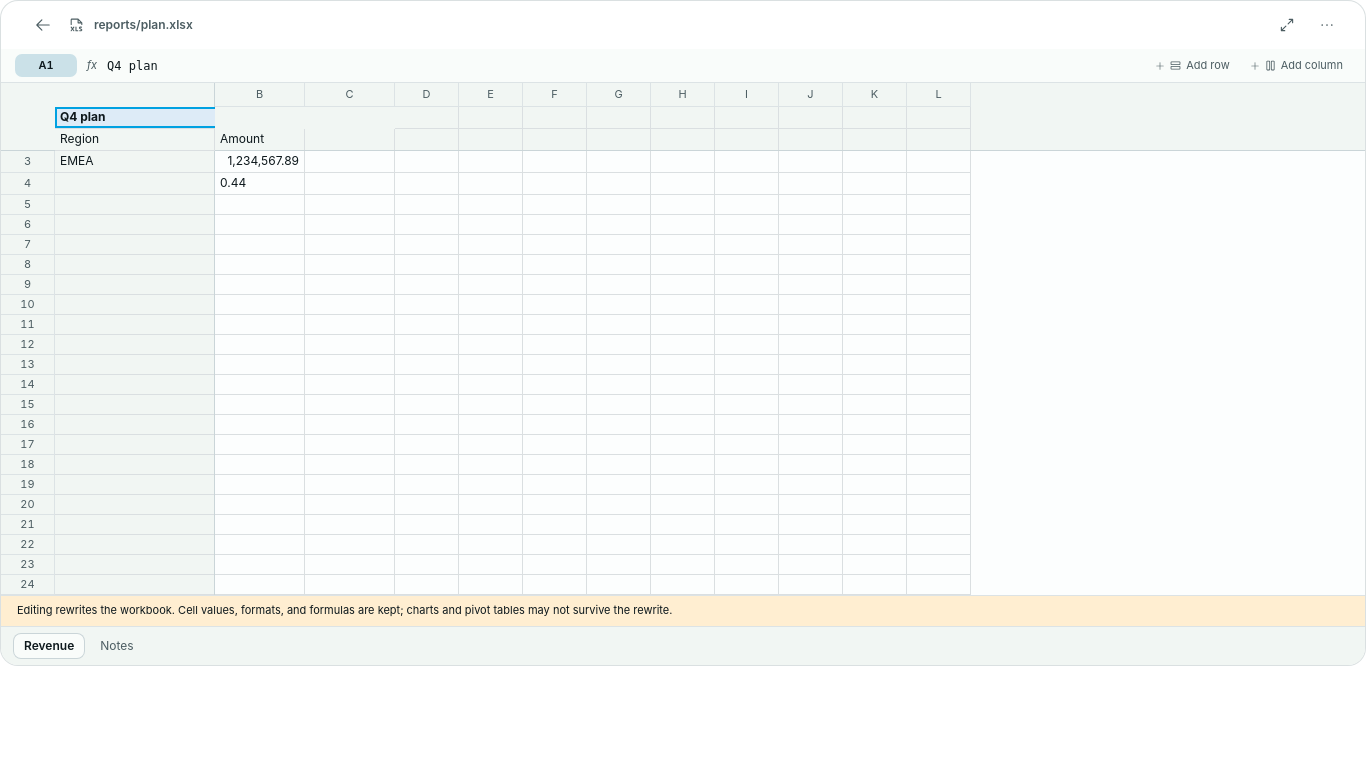
Test: workbook preview › switches sheets from the tab bar
Click the tab "Notes" at [117, 646], box [89,633,145,659]
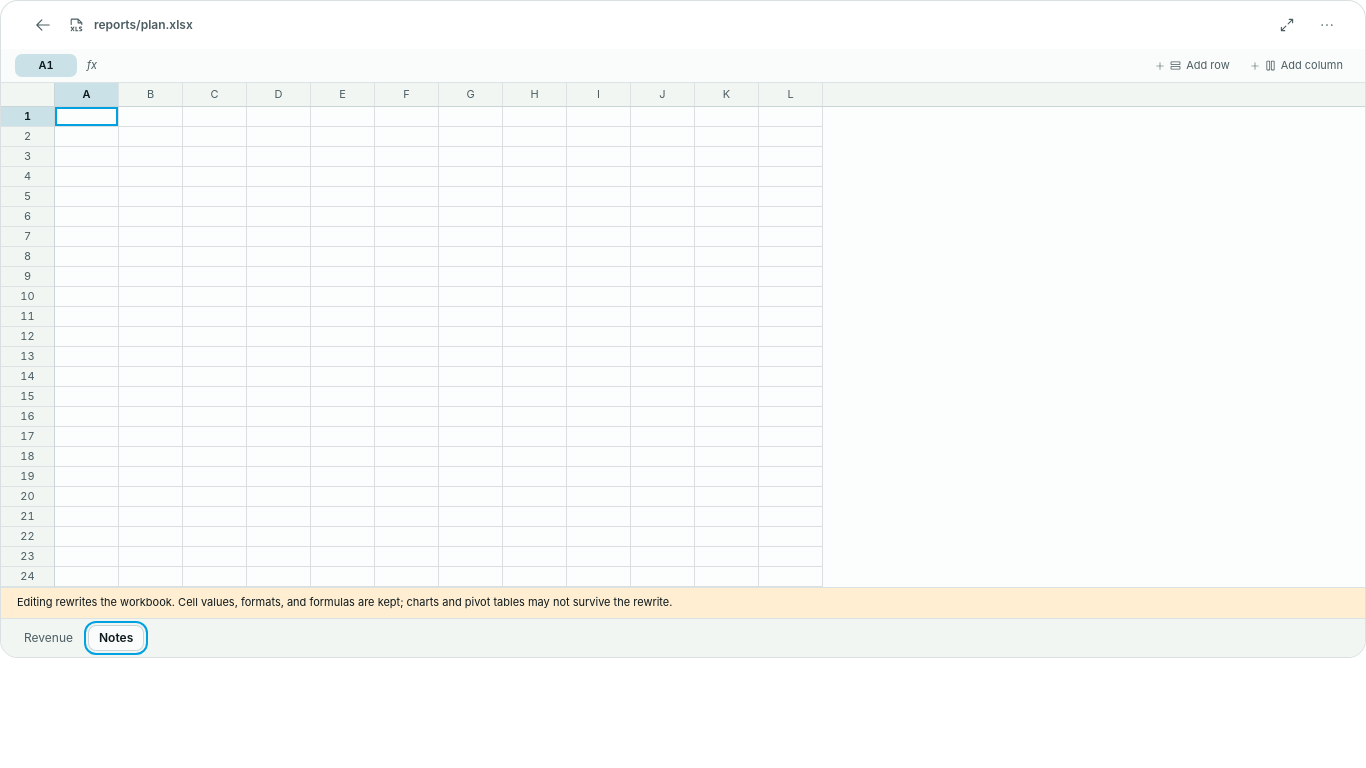
Now the table named "Sheet Notes" is shown, box [55,107,823,587]
